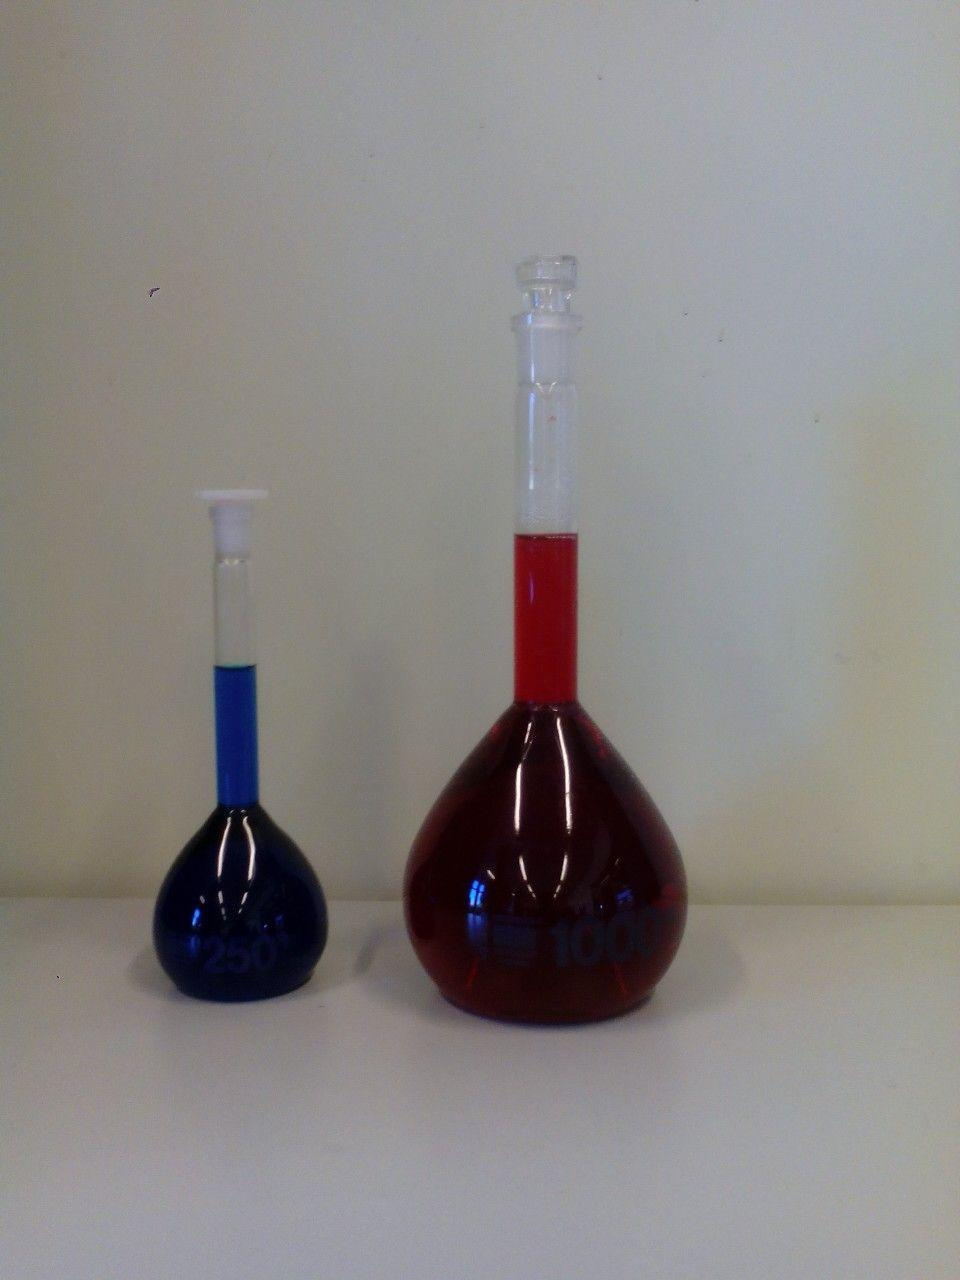Volumetric flask: (405, 250, 695, 1027), (139, 469, 331, 995)
